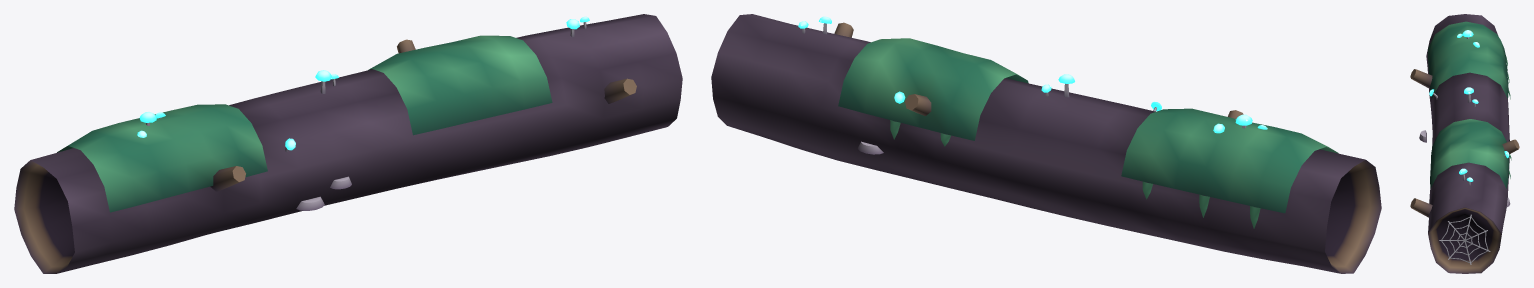
File: log_haunted.glb
The picture shows the model from 3 angles, left to right: view 1: azimuth 30°, elevation 25°; view 2: azimuth 150°, elevation 25°; view 3: azimuth 270°, elevation 25°; orthographic projection. The views are drawn at different scales.
Visible parts, largest first — view 1: log_haunted; view 2: log_haunted; view 3: log_haunted.
Part boxes in pixels (x1=…): log_haunted: x1=14, y1=14, x2=682, y2=273; log_haunted: x1=711, y1=14, x2=1381, y2=273; log_haunted: x1=1410, y1=14, x2=1519, y2=273.
Bounding box in the file's own units: 4 × 0.83 × 0.95.
